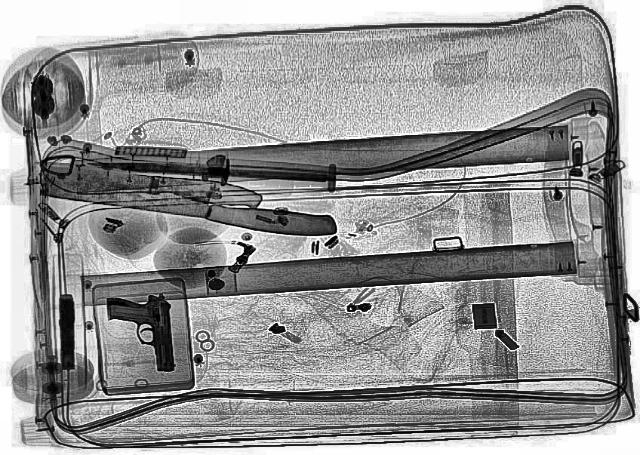Gun: (105, 292, 175, 372), (54, 293, 80, 368)
Knife: (32, 152, 348, 242), (40, 161, 266, 212), (85, 154, 328, 184)
